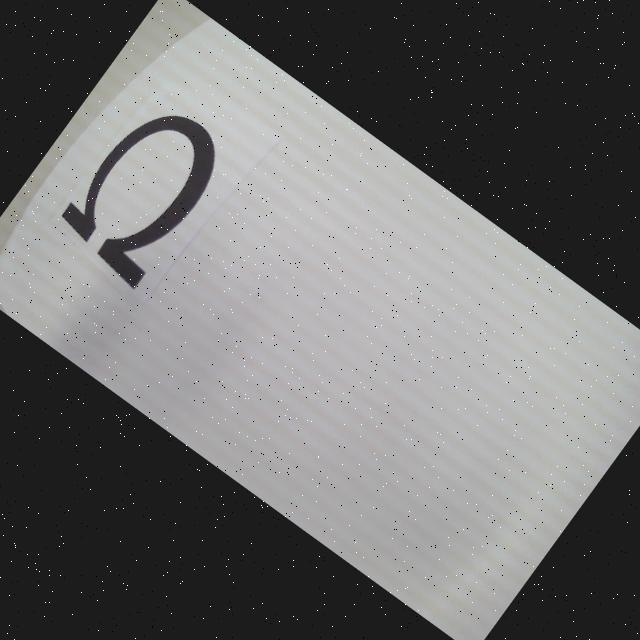OMEGA: (49, 90, 236, 290)
